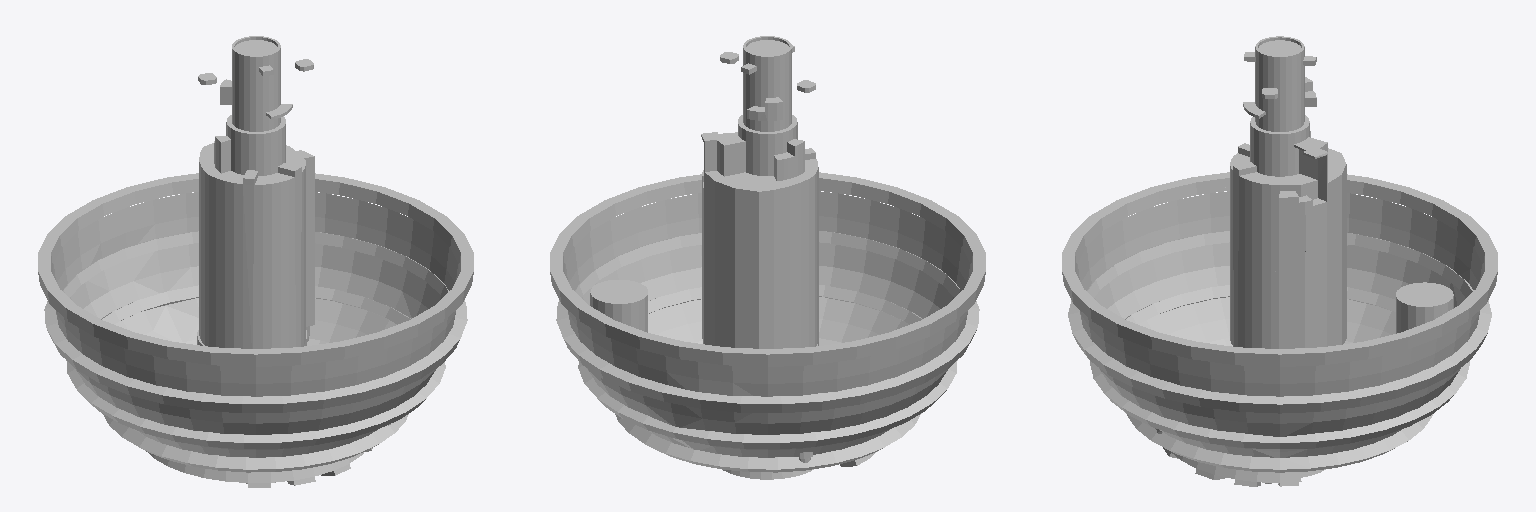
Rendered from floaterlandplanet.obj.
The picture shows the model from 3 angles: view 1: azimuth 30°, elevation 25°; view 2: azimuth 150°, elevation 25°; view 3: azimuth 270°, elevation 25°; orthographic projection.
Parts seen in each view (by area): view 1: floaterlandplanet.obj; view 2: floaterlandplanet.obj; view 3: floaterlandplanet.obj.
Boxes of the visible parts, box(x1,y1,x2,y2) form: floaterlandplanet.obj: box(38, 36, 473, 487); floaterlandplanet.obj: box(550, 36, 985, 479); floaterlandplanet.obj: box(1062, 36, 1497, 486).
Bounding box in the file's own units: 13169 × 13894 × 13097.